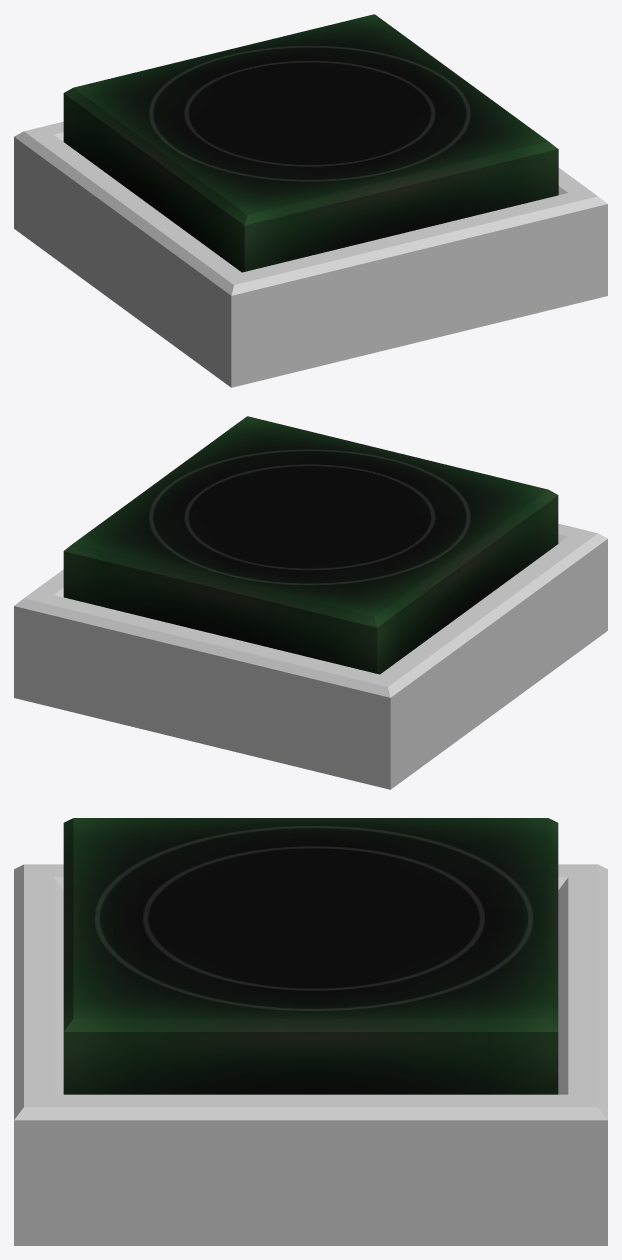
The model's file is PressurePlate.fbx.
3 renders of one model, top to bottom at view 1: azimuth 30°, elevation 25°; view 2: azimuth 150°, elevation 25°; view 3: azimuth 270°, elevation 25°, orthographic. The views are drawn at different scales.
Parts seen in each view (by area): view 1: Button, Base; view 2: Button, Base; view 3: Button, Base.
Boxes of the visible parts, x1,y1,x2,y2 form: Button: [63, 14, 558, 272]; Base: [14, 121, 607, 387]; Button: [63, 416, 558, 674]; Base: [14, 523, 607, 789]; Button: [63, 818, 558, 1094]; Base: [14, 864, 607, 1245].
Size of the model in its own units: 1.2 by 0.45 by 1.2.
